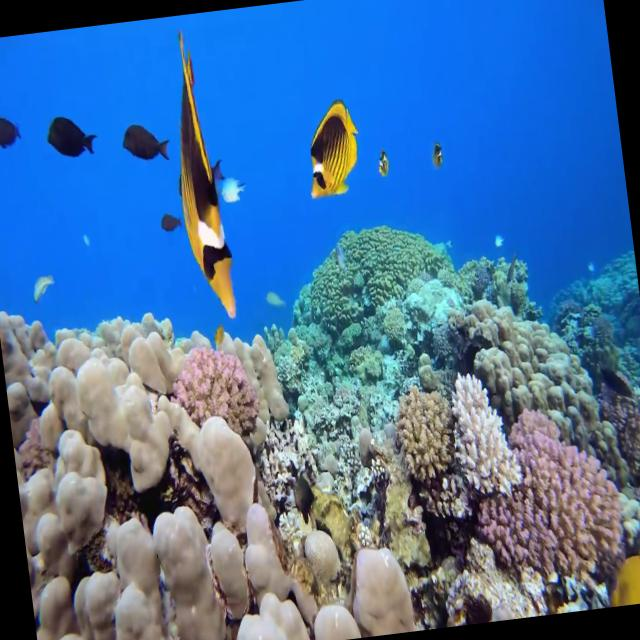fish: (154, 23, 248, 317), (288, 92, 372, 212), (30, 98, 101, 176), (112, 106, 172, 170), (603, 543, 640, 607), (0, 98, 30, 160), (154, 193, 184, 242), (219, 158, 249, 206), (367, 148, 399, 182), (428, 141, 449, 169)
